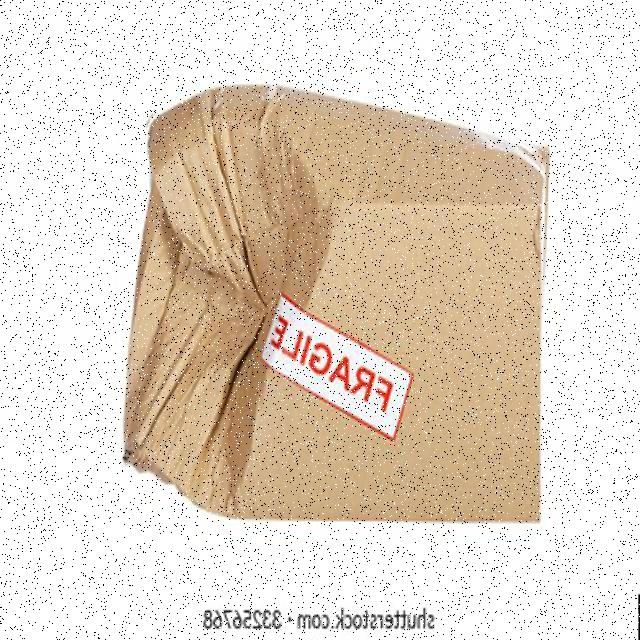defect: (120, 82, 548, 532)
